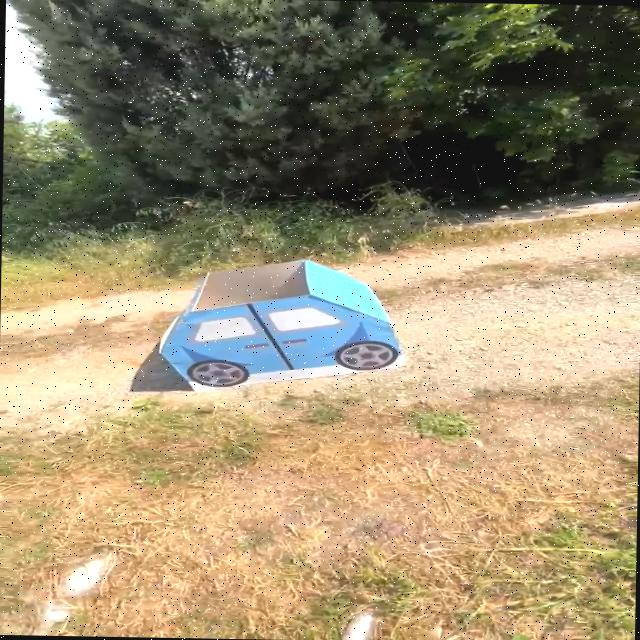blue_car: (132, 247, 412, 425)
